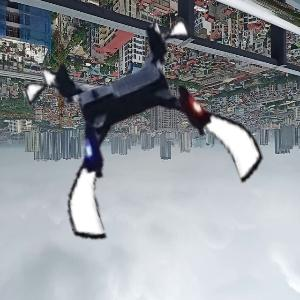drone: (40, 24, 250, 234)
